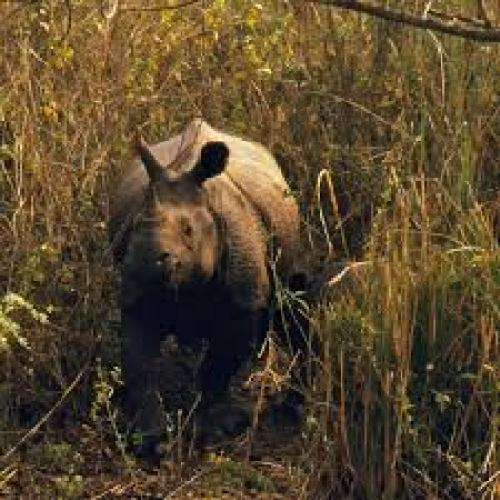rhino-endangered: (105, 115, 304, 378)
